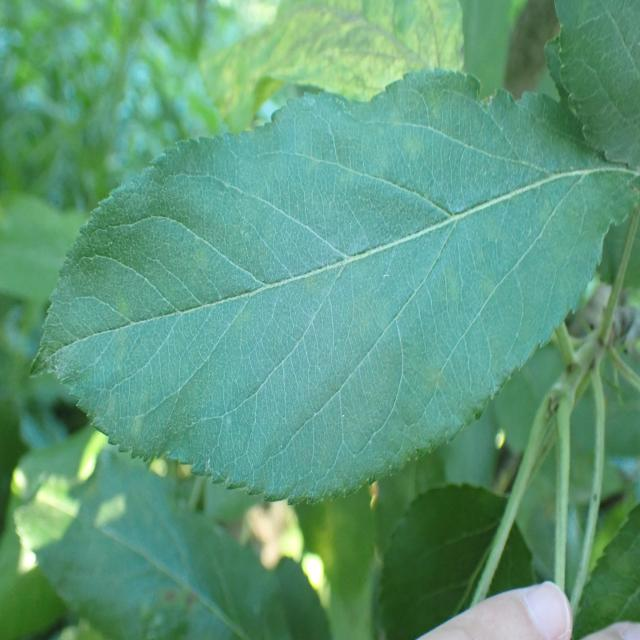scab: (50, 92, 595, 372)
